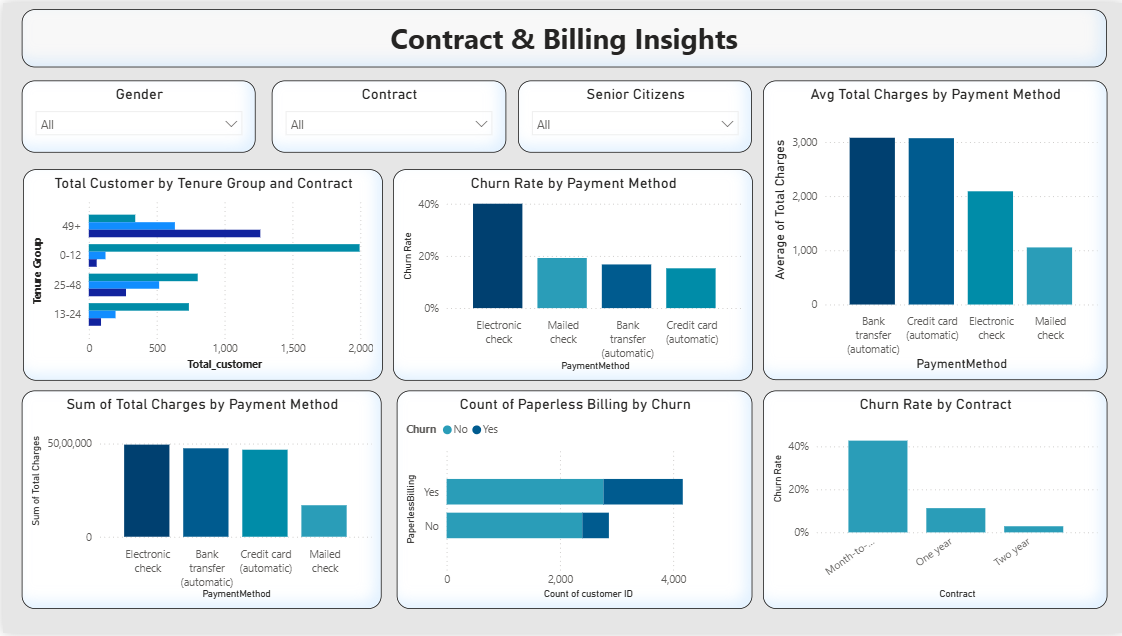

The page's visual inventory and layout, read from the dashboard file:
{"tool":"powerbi","page":{"name":"💳 Contract & Billing Insights","canvas":[1280,720],"ordinal":3},"visuals":[{"type":"slicer","title":"Gender","fields":{"Values":["Telco-Customer-Churn.gender"]},"box":[21.7,89.3,267.6,82.3],"z":0},{"type":"slicer","title":"Senior Citizens","fields":{"Values":["Telco-Customer-Churn.SeniorCitizen"]},"box":[588.7,89.3,267.6,82.3],"z":1000},{"type":"slicer","title":"Contract","fields":{"Values":["Telco-Customer-Churn.Contract"]},"box":[306.4,88.1,267.8,82],"z":2000},{"type":"clusteredColumnChart","title":"Churn Rate by Contract","fields":{"Category":["Telco-Customer-Churn.Contract"],"Y":["Telco-Customer-Churn.Churn Rate"]},"box":[868.6,442.8,393.3,249.7],"z":3000},{"type":"clusteredColumnChart","title":"Sum of Total Charges by Payment Method","fields":{"Category":["Telco-Customer-Churn.PaymentMethod"],"Y":["Sum(Telco-Customer-Churn.Total Charges)"]},"box":[21.7,442.8,411.4,249.7],"z":4000},{"type":"columnChart","title":"Churn Rate by Payment Method","fields":{"Category":["Telco-Customer-Churn.PaymentMethod"],"Y":["Telco-Customer-Churn.Churn Rate"]},"box":[445.2,190.6,411.4,241.3],"z":5000},{"type":"clusteredColumnChart","title":"Avg Total Charges by Payment Method","fields":{"Category":["Telco-Customer-Churn.PaymentMethod"],"Y":["Avg(Telco-Customer-Churn.Total Charges)"]},"box":[868.6,88.1,393.3,342.6],"z":6000},{"type":"barChart","title":"Count of Paperless Billing by Churn","fields":{"Category":["Telco-Customer-Churn.PaperlessBilling"],"Y":["CountNonNull(Telco-Customer-Churn.customer ID)"],"Series":["Telco-Customer-Churn.Churn"]},"box":[450,442.8,406.6,249.7],"z":7000},{"type":"clusteredBarChart","title":"Total Customer by Tenure Group and Contract","fields":{"Category":["Telco-Customer-Churn.Tenure Group New"],"Y":["CountNonNull(Telco-Customer-Churn.customer ID)"],"Series":["Telco-Customer-Churn.Contract"]},"box":[22.9,190.6,411.4,241.3],"z":8000},{"type":"textbox","box":[21.7,7.2,1240.2,66.4],"z":9000}]}

Visuals, with their boxes in screenshot pixels (x1, y1, x2, y2), scaled from the page's 1280x720 canvas onto the 1122x636 screenshot:
"Gender" slicer: 19 79 254 152
"Senior Citizens" slicer: 516 79 751 152
"Contract" slicer: 269 78 503 150
"Churn Rate by Contract" clusteredColumnChart: 761 391 1106 612
"Sum of Total Charges by Payment Method" clusteredColumnChart: 19 391 380 612
"Churn Rate by Payment Method" columnChart: 390 168 751 382
"Avg Total Charges by Payment Method" clusteredColumnChart: 761 78 1106 380
"Count of Paperless Billing by Churn" barChart: 394 391 751 612
"Total Customer by Tenure Group and Contract" clusteredBarChart: 20 168 381 382
textbox: 19 6 1106 65
